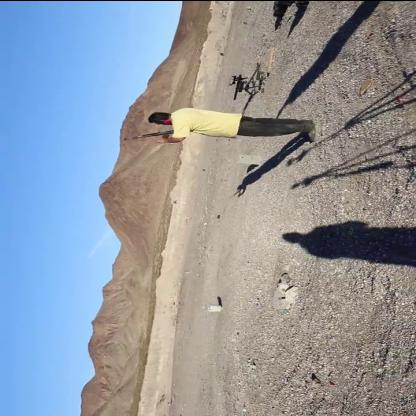long weapon: (107, 124, 185, 148), (218, 66, 262, 104)
